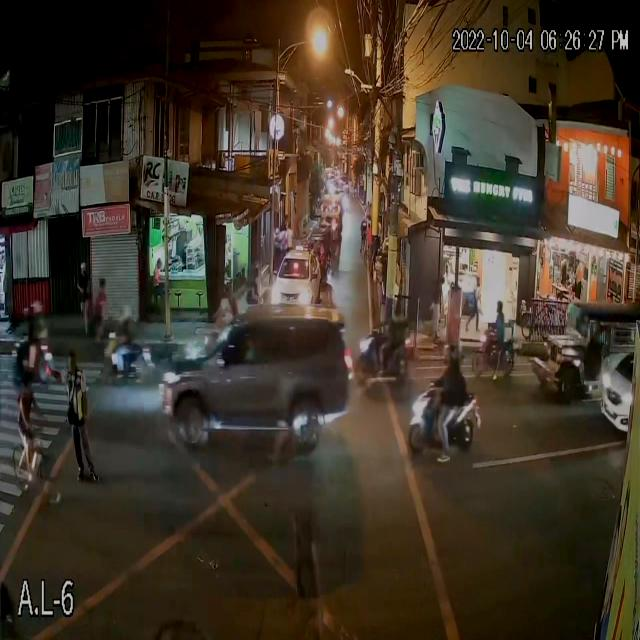Full-Faced: (494, 300, 506, 316)
